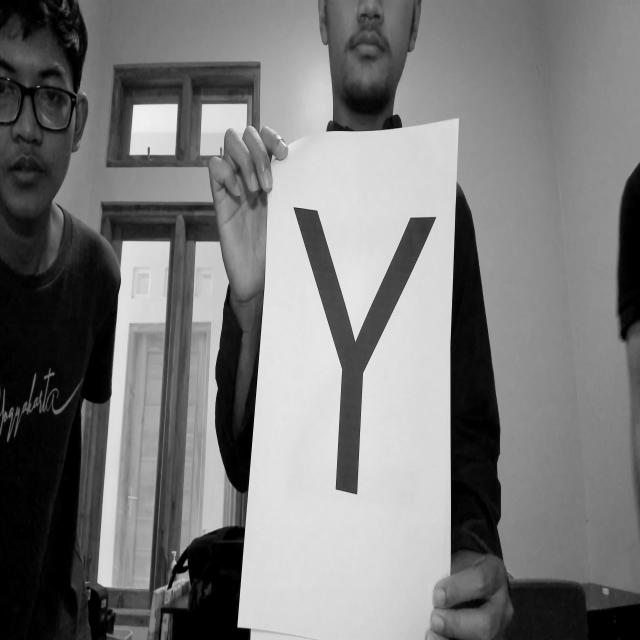y: (294, 201, 438, 498)
